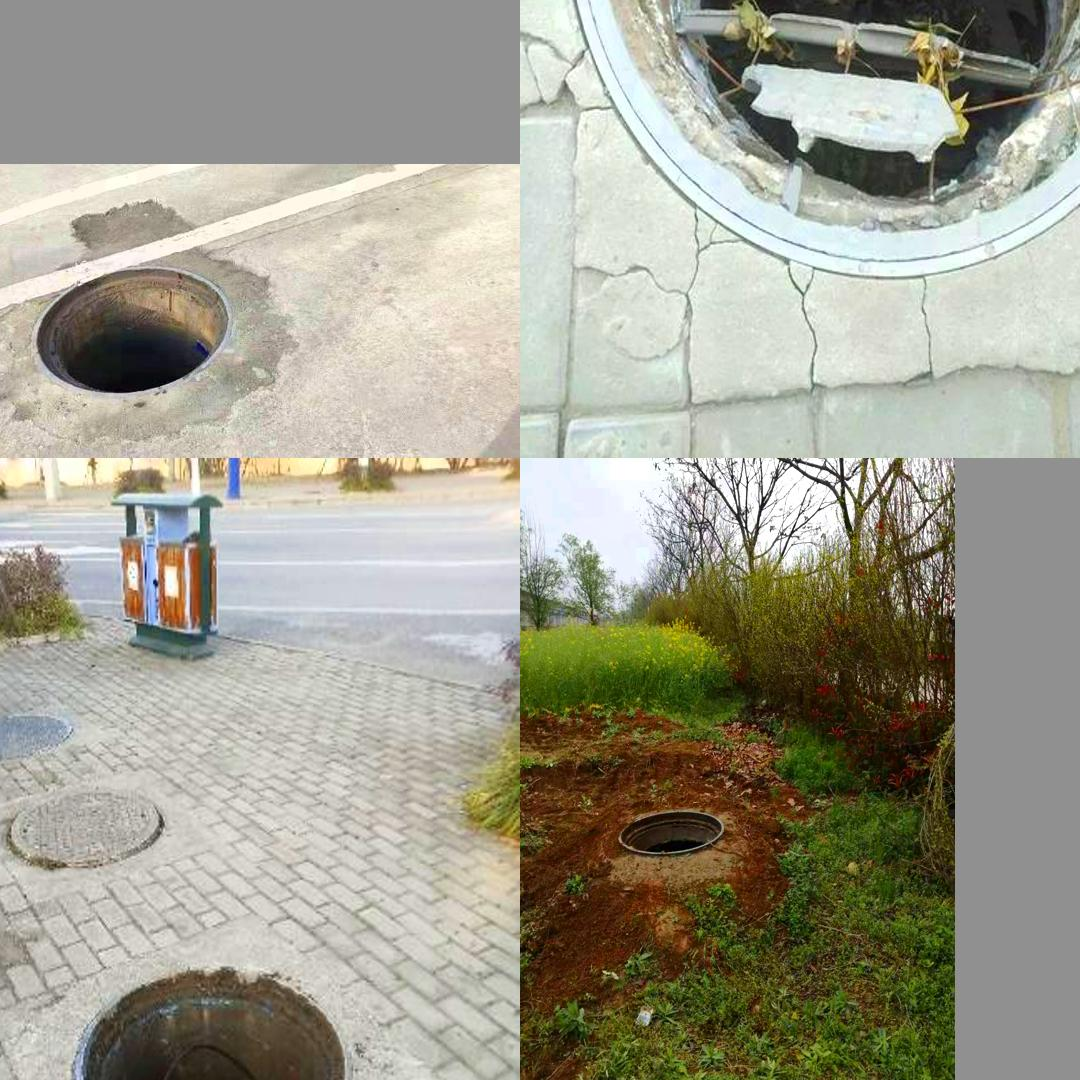good: (7, 783, 163, 871), (0, 710, 71, 765)
lose: (555, 0, 1080, 269), (73, 962, 356, 1080), (28, 263, 228, 402), (613, 804, 736, 877)
